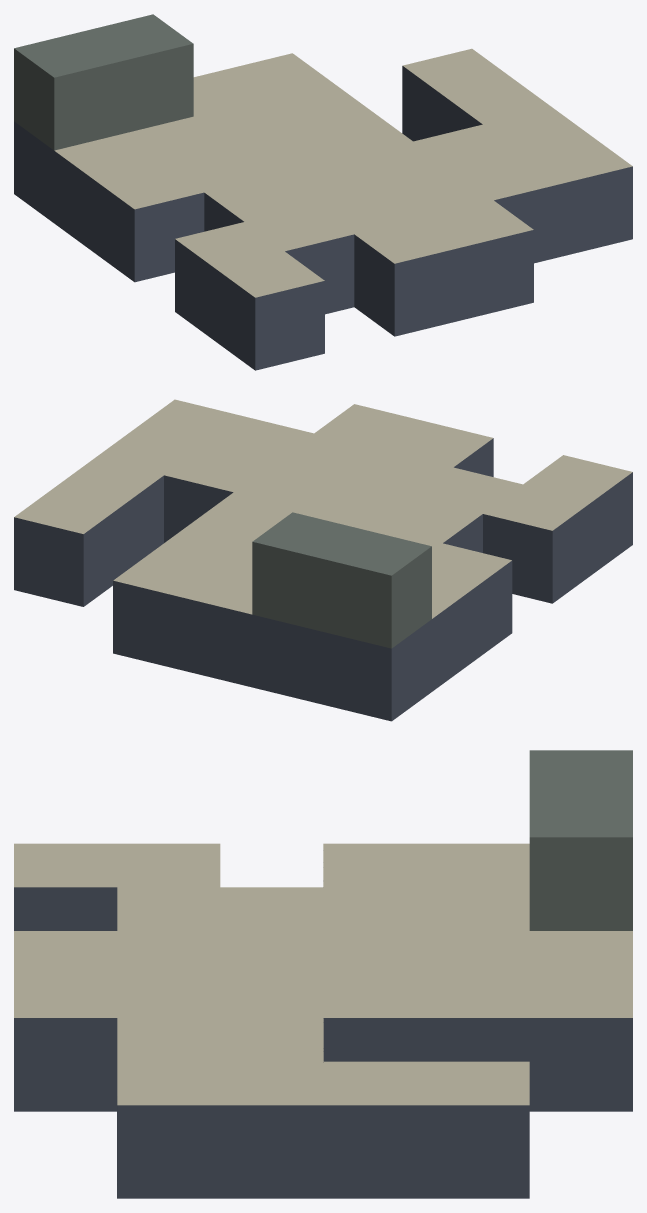
The picture shows the model from 3 angles, top to bottom: view 1: azimuth 30°, elevation 25°; view 2: azimuth 150°, elevation 25°; view 3: azimuth 270°, elevation 25°; orthographic projection. The views are drawn at different scales.
Parts seen in each view (by area): view 1: 9.2; view 2: 9.2; view 3: 9.2.
Boxes of the visible parts, x1,y1,x2,y2 form: 9.2: [14, 14, 632, 370]; 9.2: [14, 399, 632, 721]; 9.2: [14, 750, 632, 1198].
Bounding box in the file's own units: 600 × 200 × 600.
